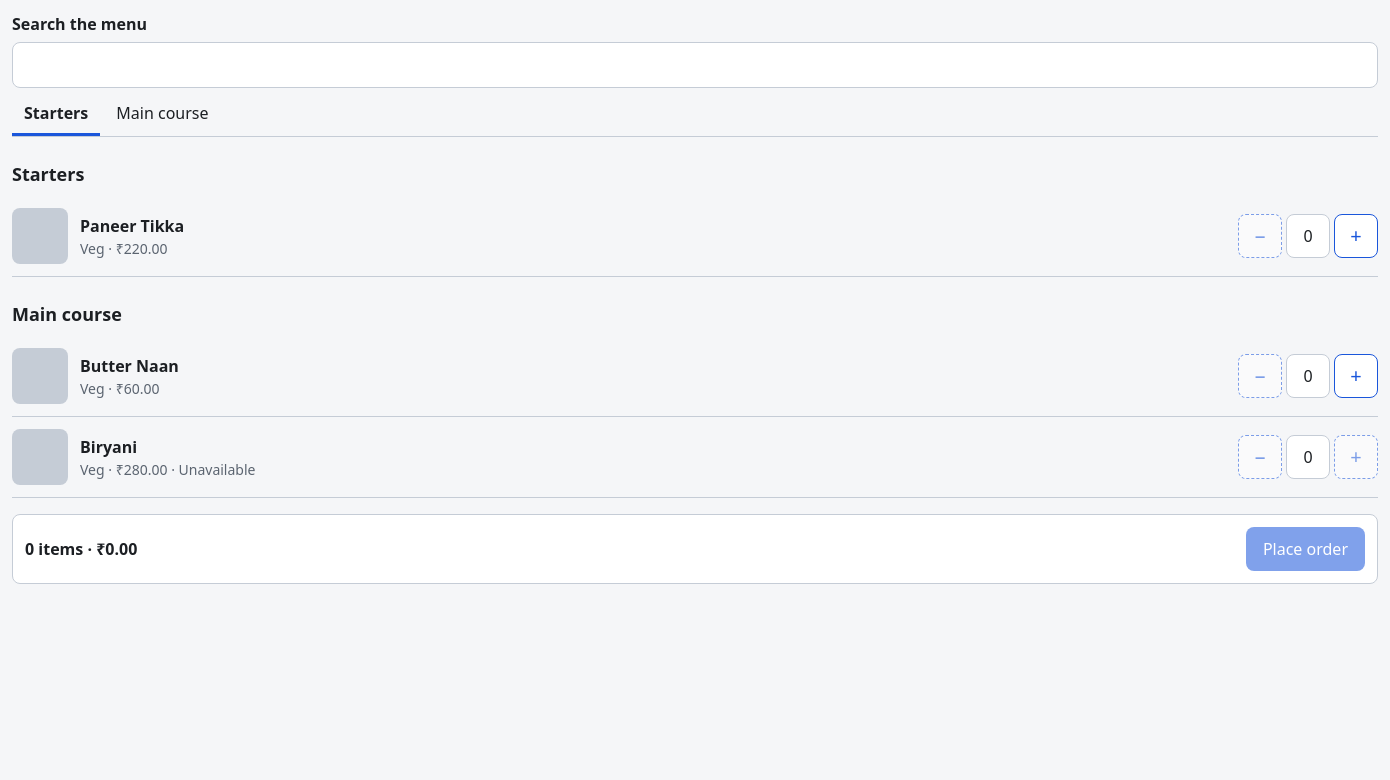
Test: RestaurantPage: the server changed the cart › shows the new price, the new total, and asks the user to confirm
The image size is (1390, 780).
Click the button named "Add Paneer Tikka". click: (1356, 236)
box: [1334, 214, 1378, 258]
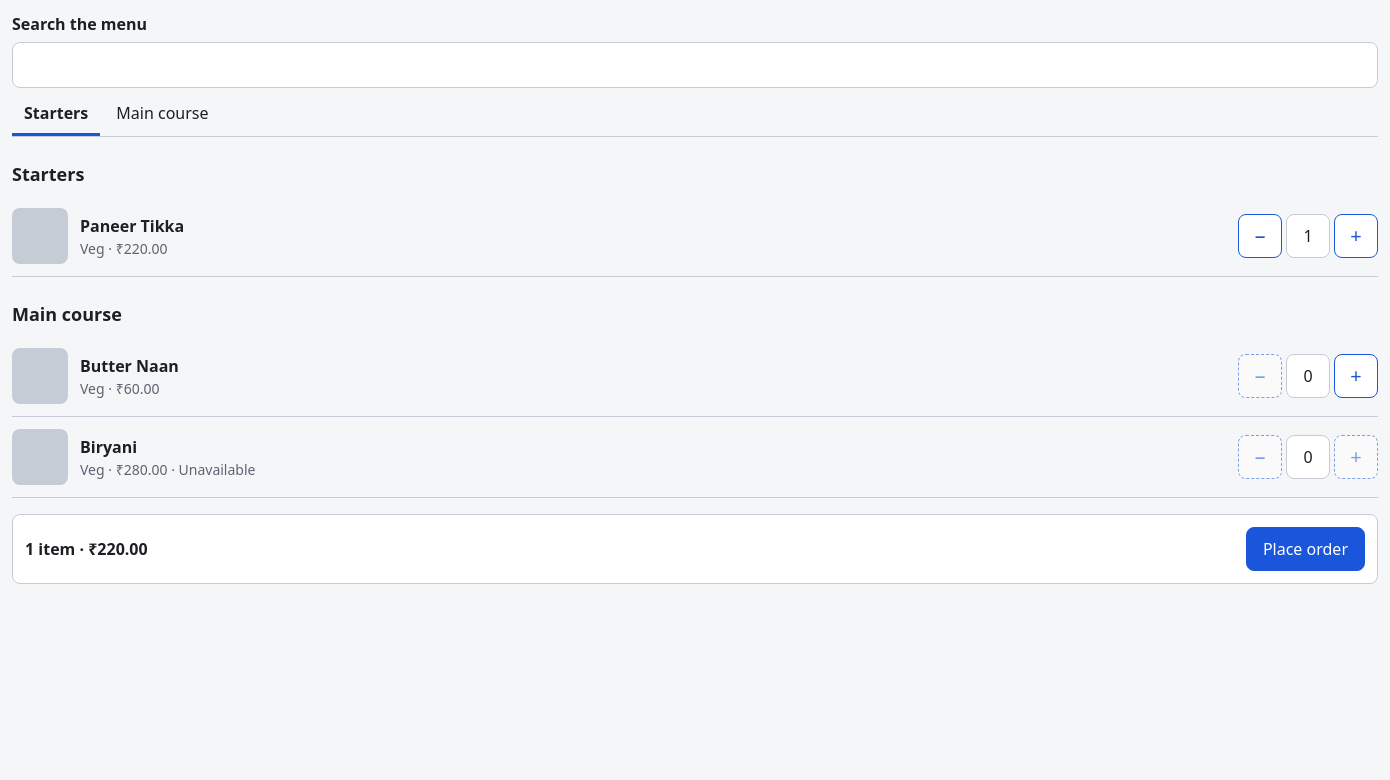
Click the button named "Add Butter Naan". click: (1356, 376)
box: [1334, 354, 1378, 398]
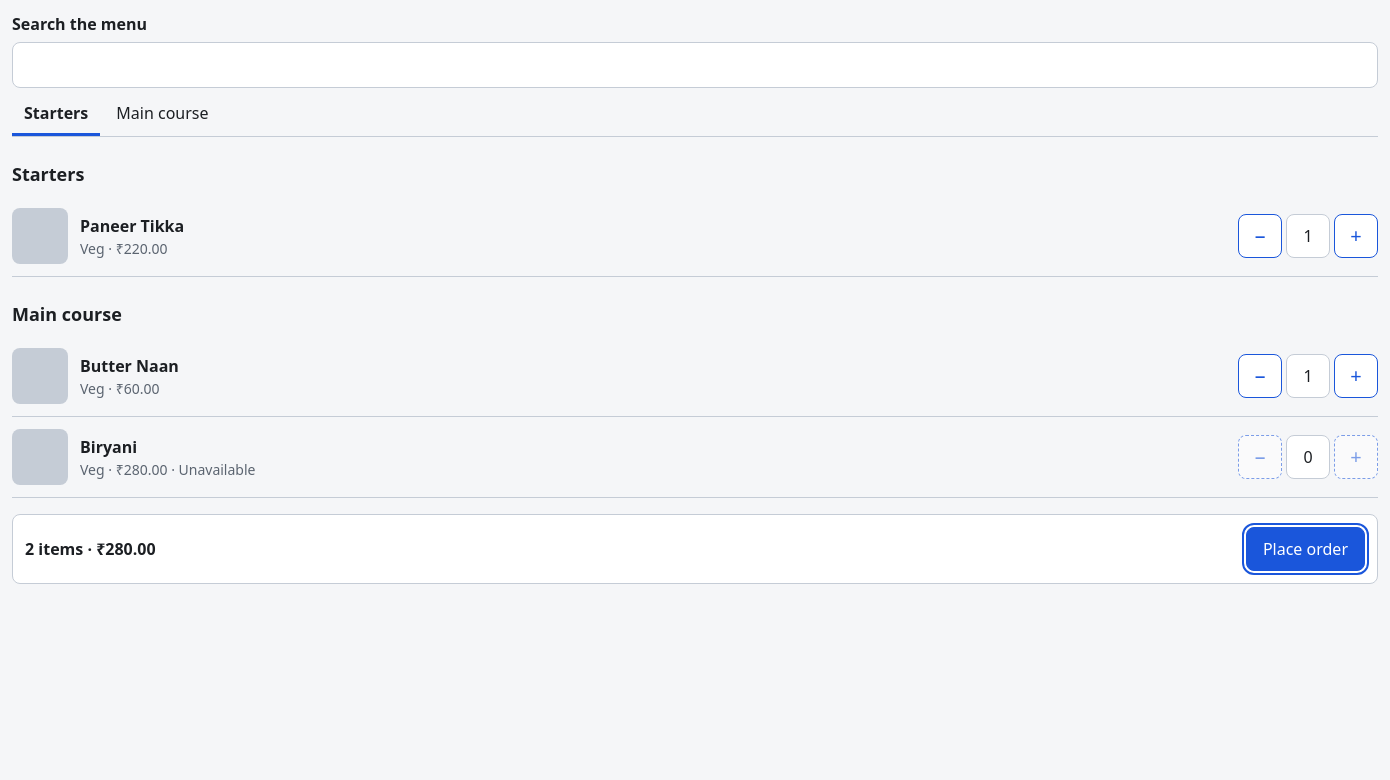
Click the button "Place order". click: (1305, 549)
box: [1246, 527, 1365, 571]
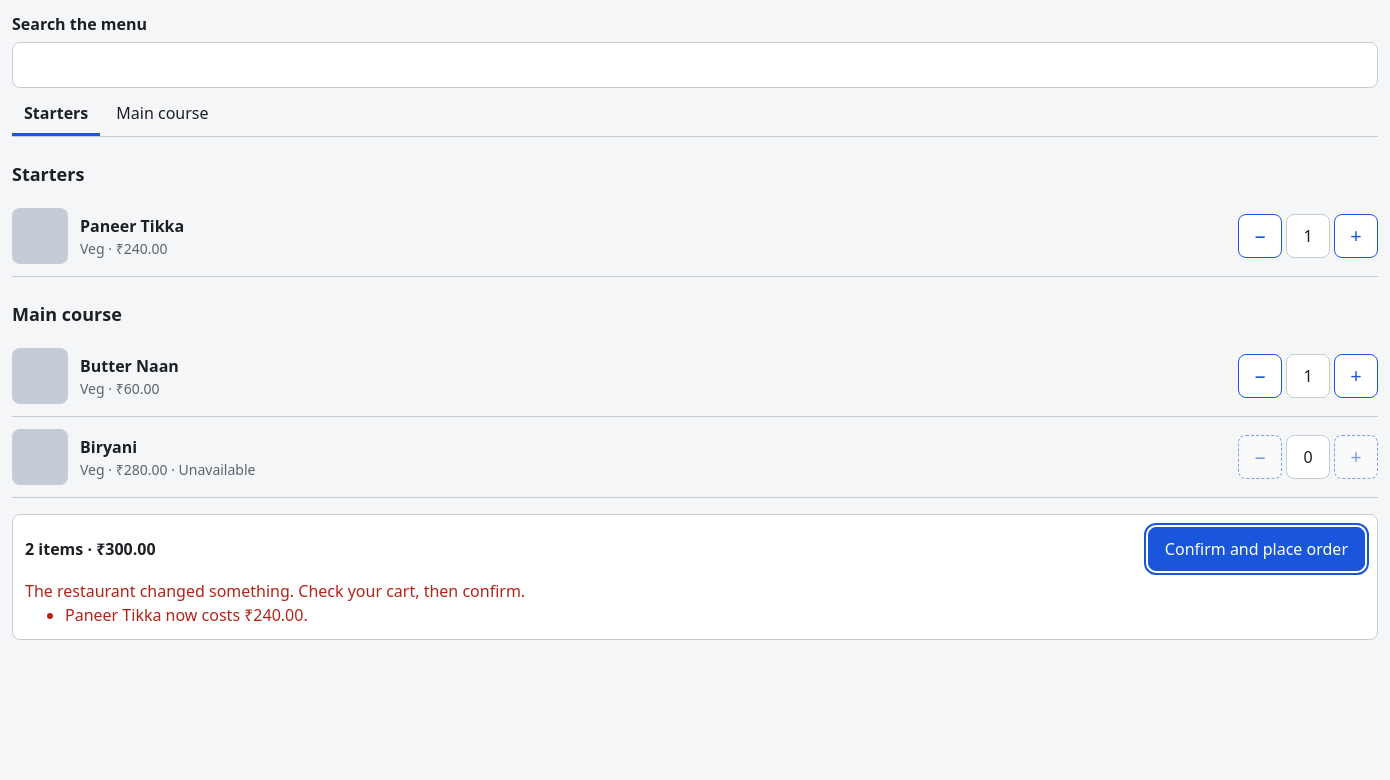
Expected: the message shows "The restaurant changed something.", [25, 580, 525, 602]
Expected: the message shows "Paneer Tikka now costs ₹240.00.", [65, 604, 308, 626]
Expected: the text "2 items · ₹300.00" is shown, [25, 537, 156, 561]
